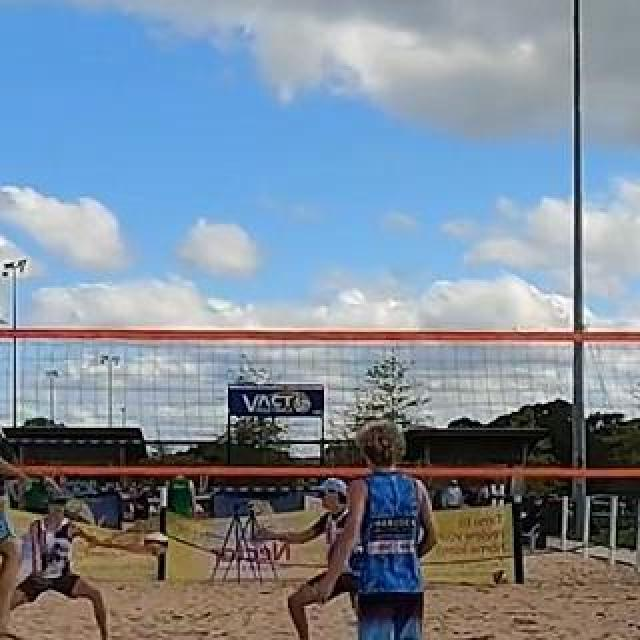volleyball: (146, 531, 168, 555), (493, 569, 509, 585)
